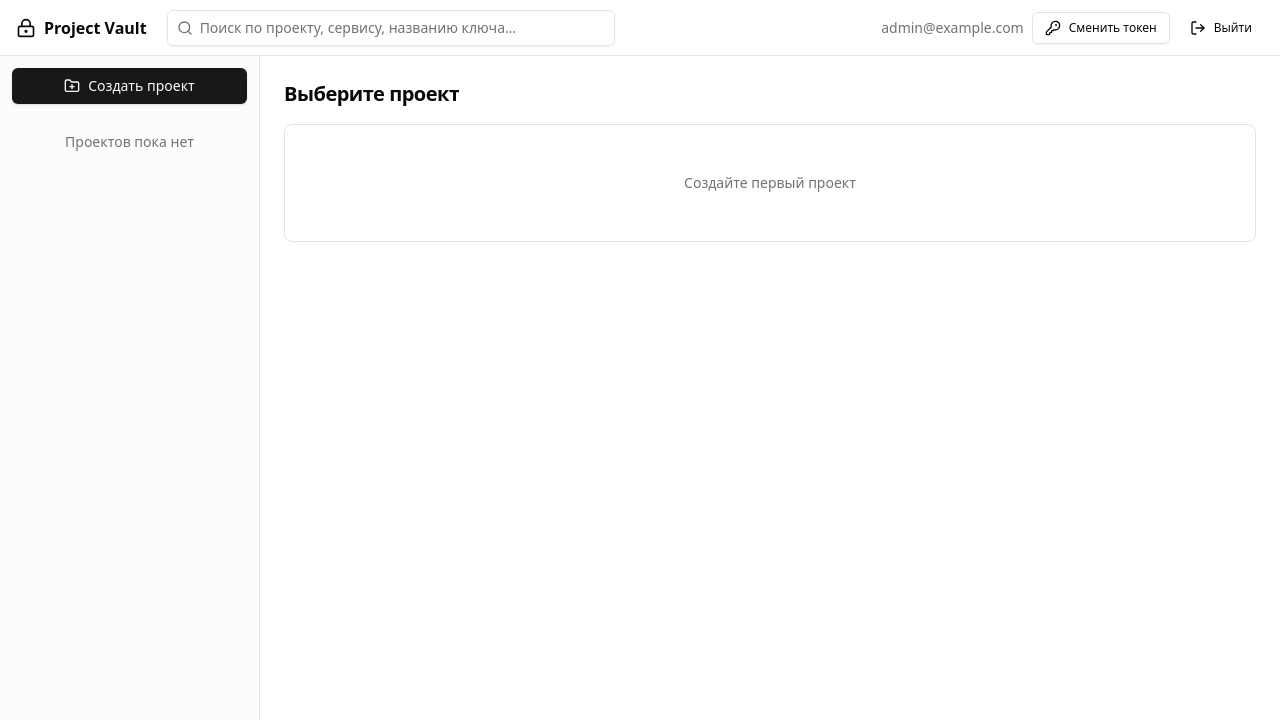
Test case: dashboard › rotates the token, shows it once and returns to the login screen
Expected: the button "Создать проект" is shown, top-left (12, 68), bottom-right (247, 104)
Click the button "Сменить токен": coordinates (1101, 28) top-left (1032, 12), bottom-right (1170, 44)
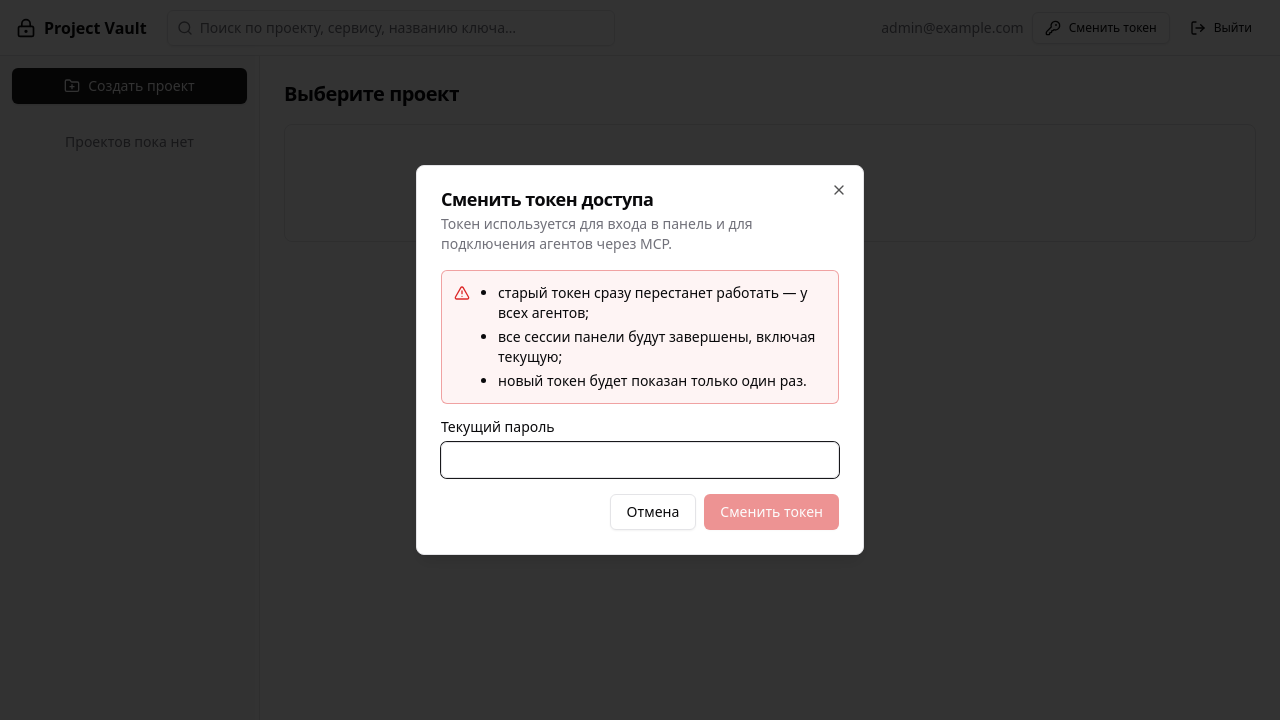
In the password field labelled "Текущий пароль": coordinates (640, 460) top-left (441, 442), bottom-right (839, 478), type "pw-1234567890"
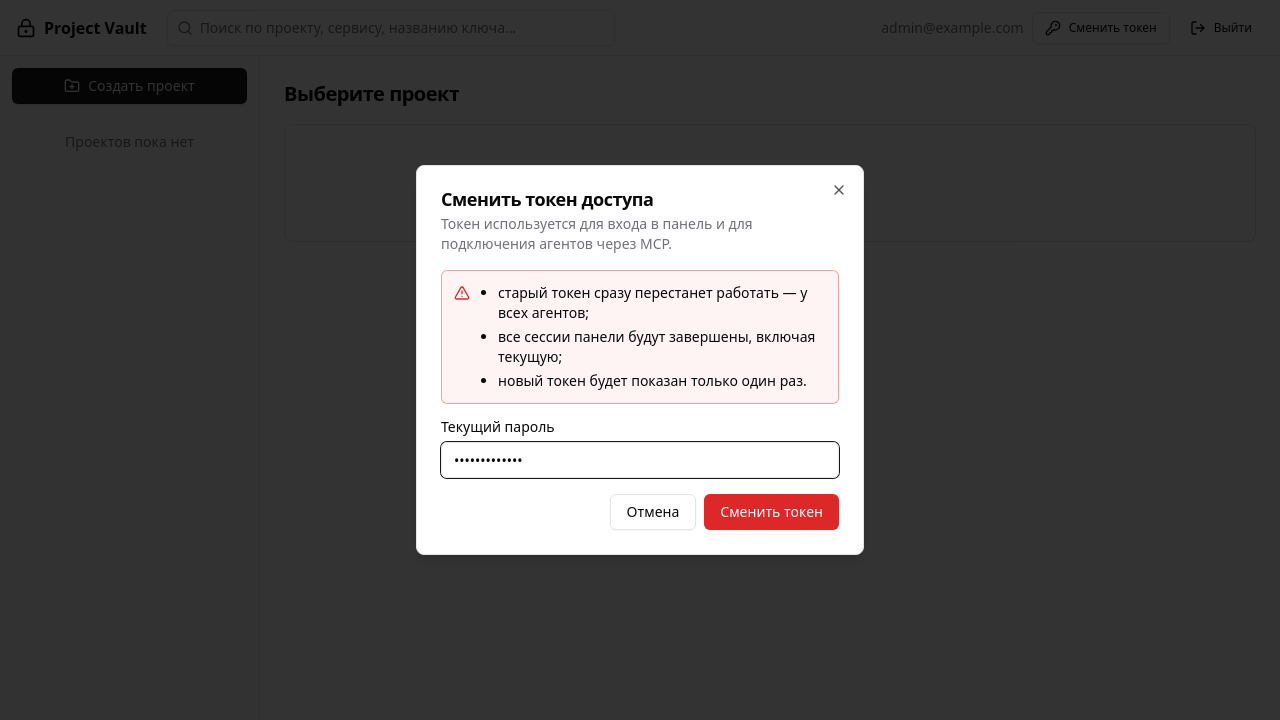
Click the button "Сменить токен": coordinates (772, 512) top-left (704, 494), bottom-right (839, 530)
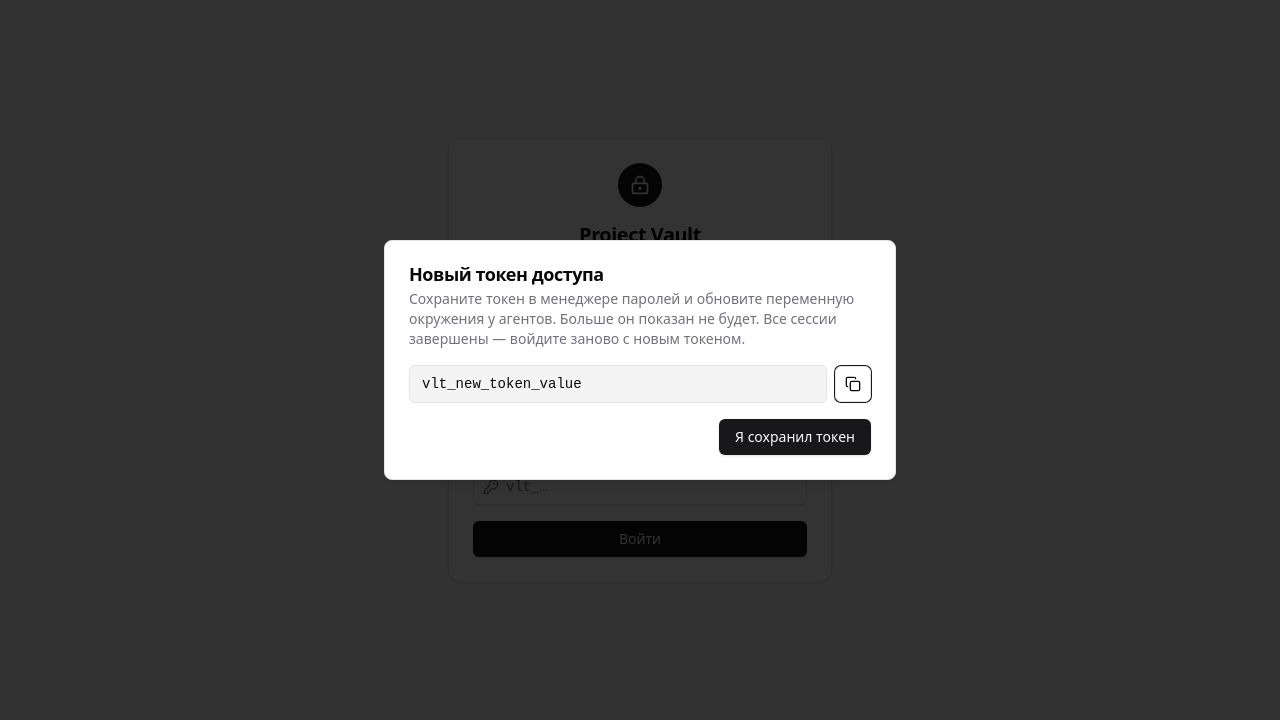
Expected: the text with test id "new-token" reads "vlt_new_token_value", top-left (422, 376), bottom-right (582, 392)
Click the button "Я сохранил токен": coordinates (795, 437) top-left (719, 419), bottom-right (871, 455)
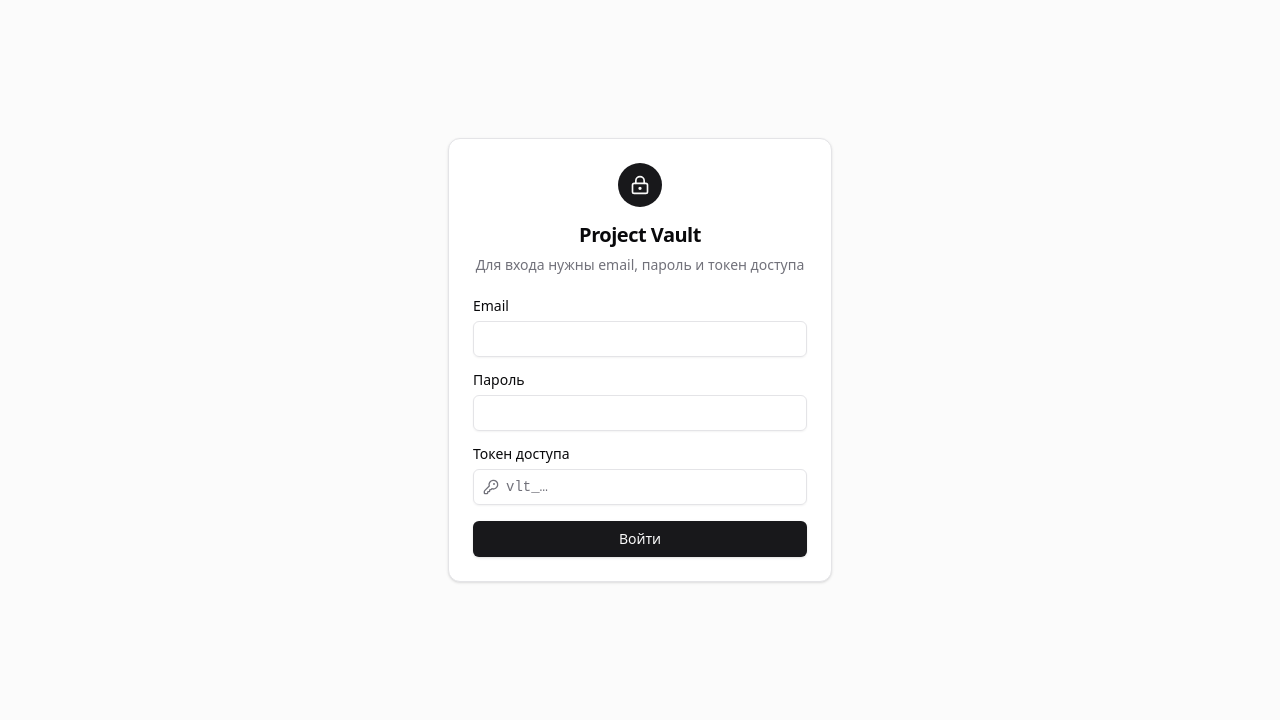
Expected: the button "Войти" is shown, top-left (473, 521), bottom-right (807, 557)
Expected: the text with test id "new-token" is gone
